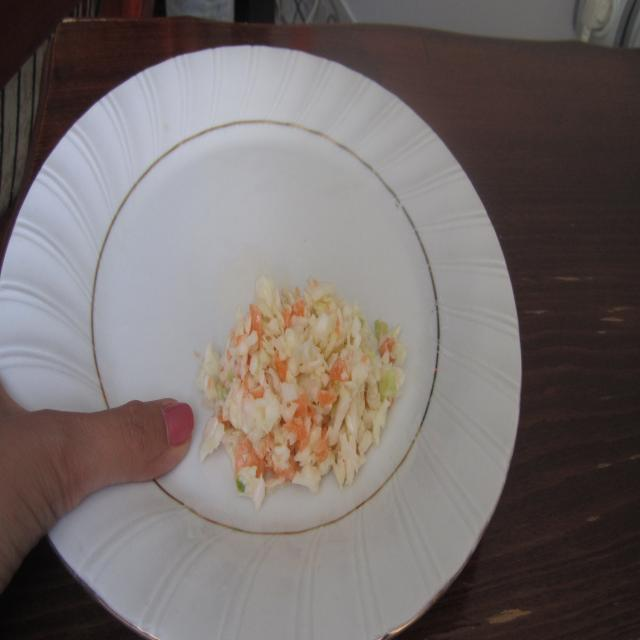vegatable salad: (194, 268, 418, 519)
